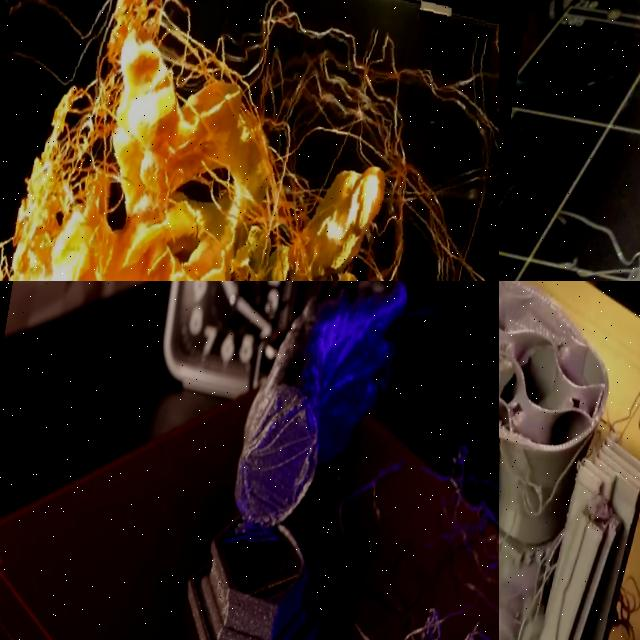spaghetti: (0, 0, 499, 281), (499, 325, 640, 640), (334, 419, 499, 640), (606, 569, 640, 640)
